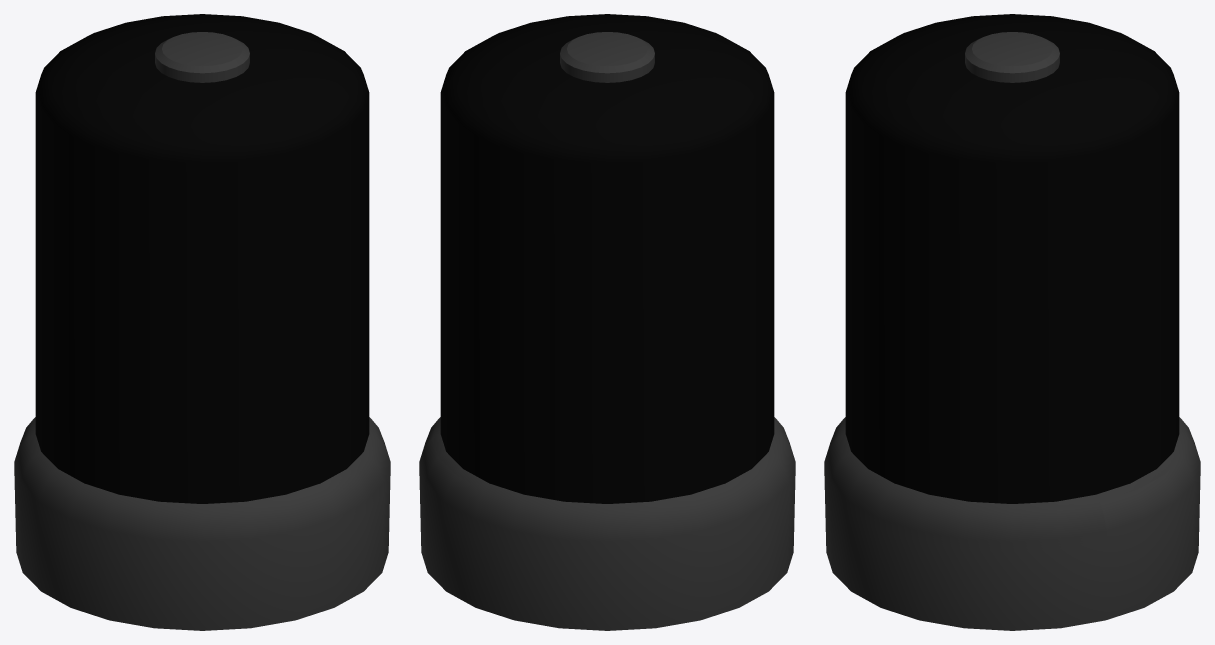
The model's file is Paint.fbx.
3 renders of one model, left to right at view 1: azimuth 30°, elevation 25°; view 2: azimuth 150°, elevation 25°; view 3: azimuth 270°, elevation 25°, orthographic.
Parts seen in each view (by area): view 1: Paint; view 2: Paint; view 3: Paint.
Boxes of the visible parts, x1=… form: Paint: x1=14, y1=14, x2=390, y2=630; Paint: x1=419, y1=14, x2=795, y2=630; Paint: x1=824, y1=14, x2=1200, y2=630.
Size of the model in its own units: 68.57 by 101 by 68.57.
Materials: 3 (2 with a texture image).
